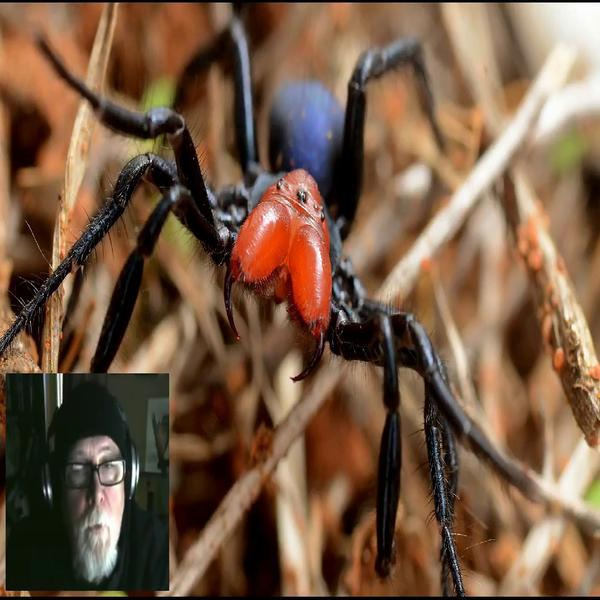Red Headed Mouse Spider: (32, 26, 496, 574)
